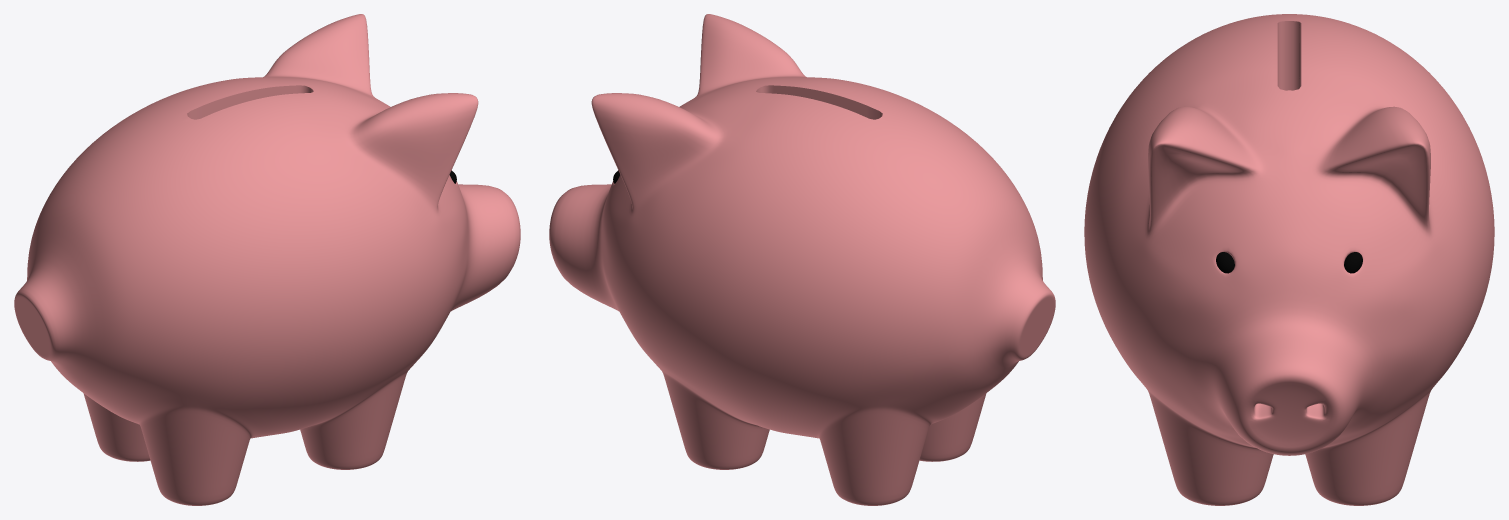
File: piggy.gltf
3 views of the same model, side by side, from view 1: azimuth 30°, elevation 25°; view 2: azimuth 150°, elevation 25°; view 3: azimuth 270°, elevation 25° (orthographic). The views are drawn at different scales.
Parts seen in each view (by area): view 1: Pig_body_0; view 2: Pig_body_0; view 3: Pig_body_0, Sphere_2.
Part boxes in pixels (x1,y1,x2,y2): Pig_body_0: (14, 14, 520, 505); Pig_body_0: (549, 14, 1055, 505); Pig_body_0: (1084, 14, 1494, 505); Sphere_2: (1216, 252, 1362, 273).
Bounding box in the file's own units: 5.47 × 3.87 × 3.52.
